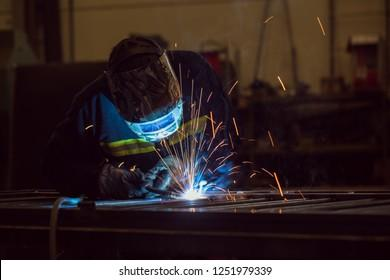gloves: (145, 153, 185, 198), (98, 163, 143, 197)
